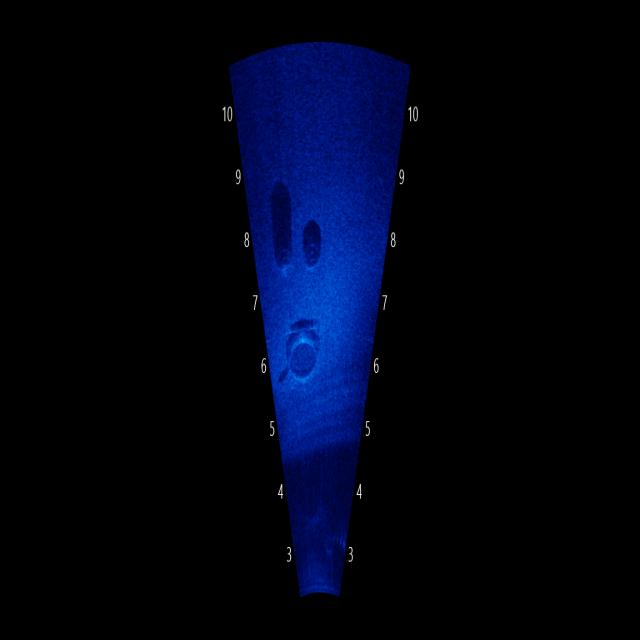circle: (284, 309, 336, 409), (293, 212, 333, 290), (266, 212, 298, 278)
